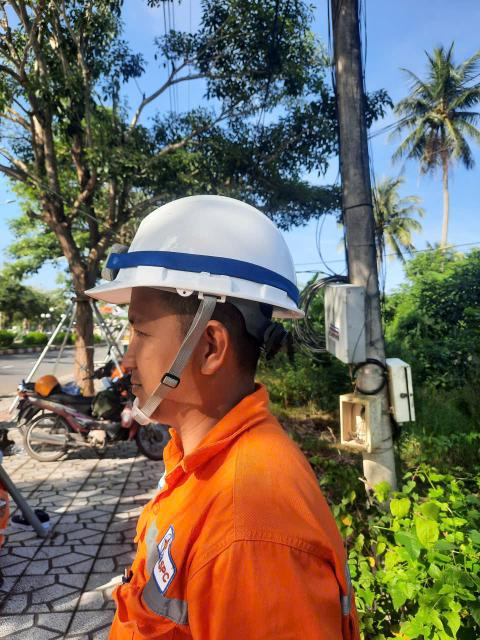helmet: (58, 145, 316, 325)
